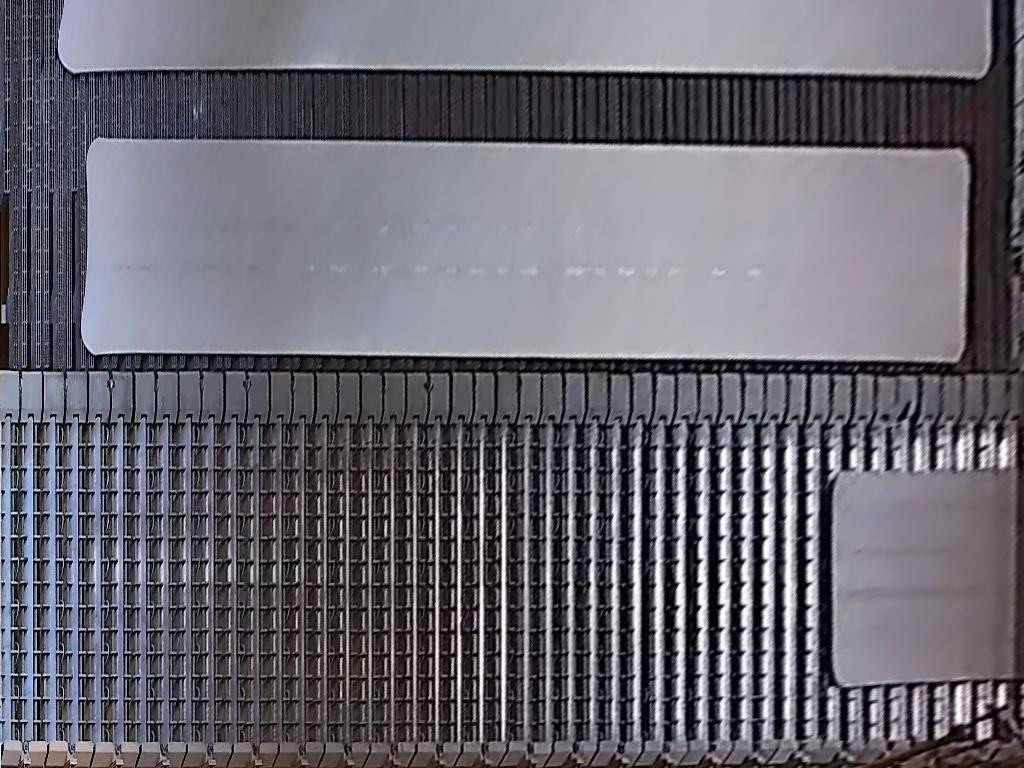steel: (77, 137, 970, 362), (57, 1, 991, 79), (830, 470, 1024, 685)
